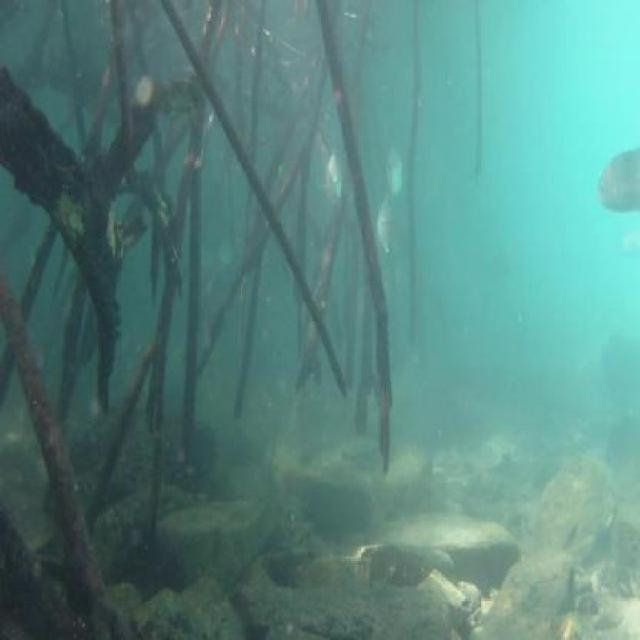Caranx_sexfasciatus_juvenile: (597, 142, 640, 215), (378, 137, 413, 200), (319, 144, 346, 213), (371, 191, 398, 258)
